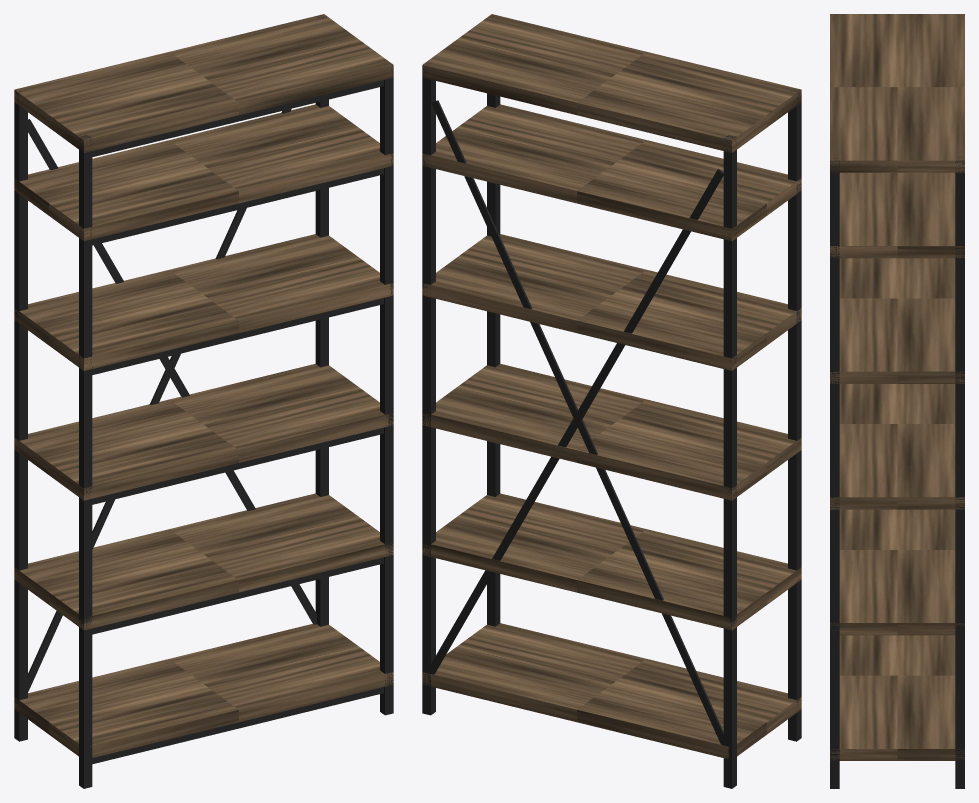
File: obj-bookcase-industrial-pipe.glb
3 renders of one model, left to right at view 1: azimuth 30°, elevation 25°; view 2: azimuth 150°, elevation 25°; view 3: azimuth 270°, elevation 25°, orthographic. The views are drawn at different scales.
Visible parts, largest first — view 1: obj-bookcase-industrial-pipe; view 2: obj-bookcase-industrial-pipe; view 3: obj-bookcase-industrial-pipe.
Boxes of the visible parts, x1,y1,x2,y2 form: obj-bookcase-industrial-pipe: (14, 14, 393, 788); obj-bookcase-industrial-pipe: (422, 14, 801, 788); obj-bookcase-industrial-pipe: (830, 14, 964, 788).
Bounding box in the file's own units: 0.9001 × 1.8 × 0.35.
Materials: 2 (1 with a texture image).
